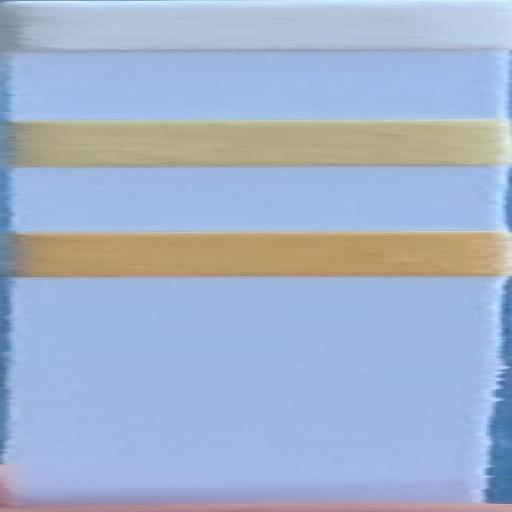pads: (0, 0, 512, 52), (0, 117, 512, 169), (0, 229, 512, 279)
